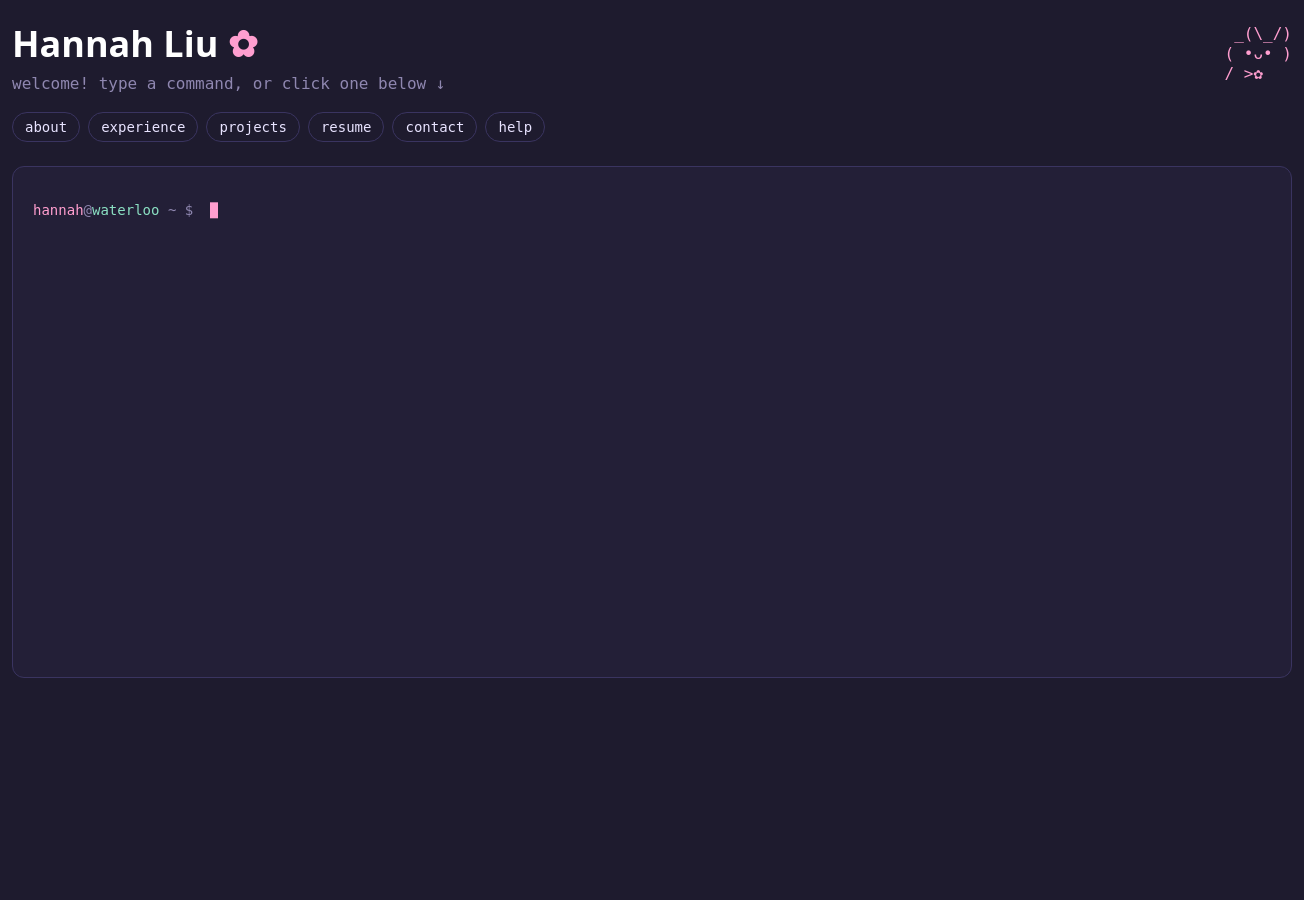
Test: Terminal › Tab completes
The width and height of the screenshot is (1304, 900).
Type "exp" into the field named "command" at (740, 210), box x1=210 y1=199 x2=1271 y2=222
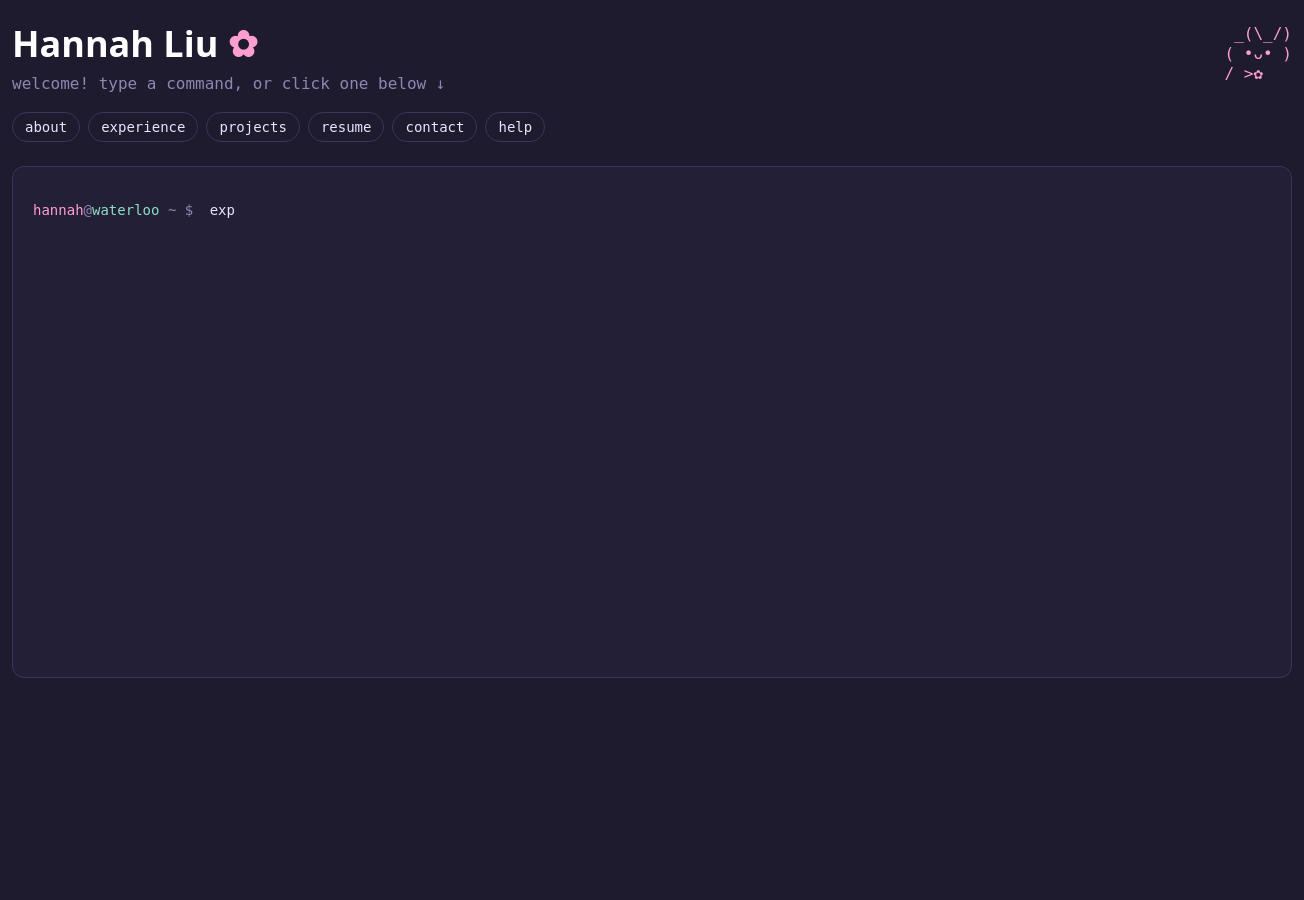
Press Tab
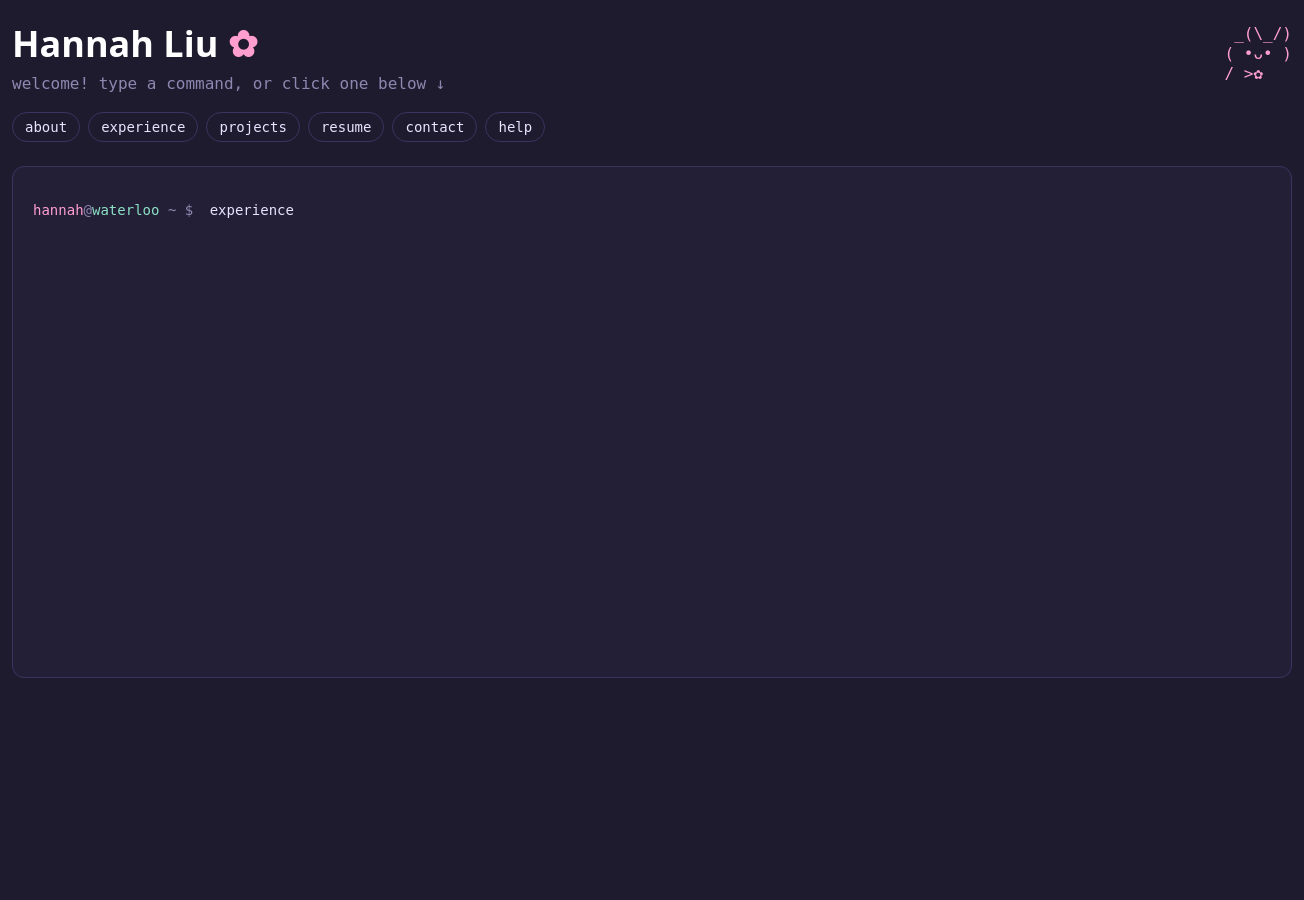
Result: the field named "command" holds "experience" at x1=210 y1=199 x2=1271 y2=222
